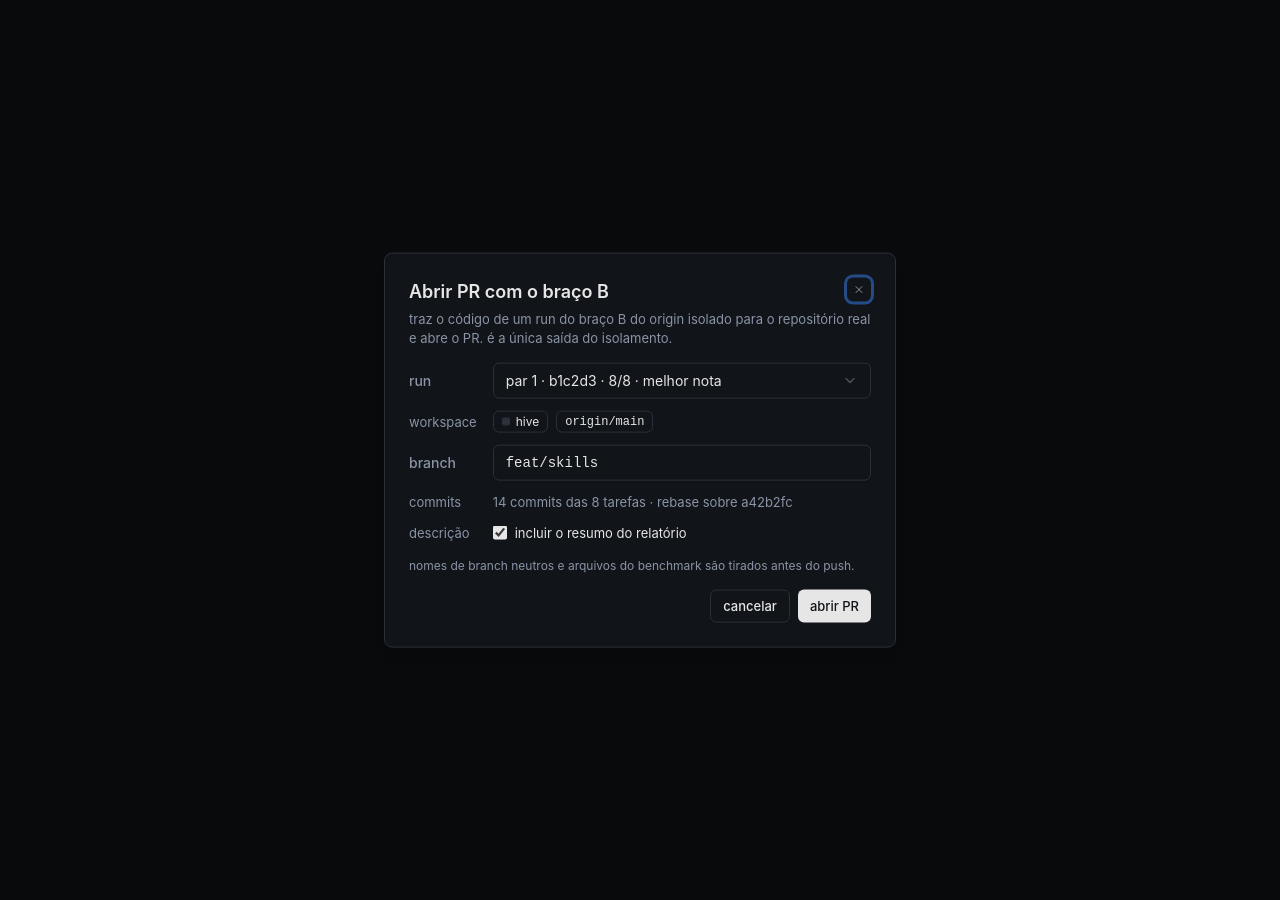
a rebase conflict lists its files inline and keeps the dialog open; a branch already on origin is said under the field (#477)
Expected: the text "14 commits das 8 tarefas · rebase sobre a42b2fc" is shown, x1=493 y1=494 x2=793 y2=510
Click the button "abrir PR". click: (834, 606)
box: x1=798 y1=590 x2=871 y2=622
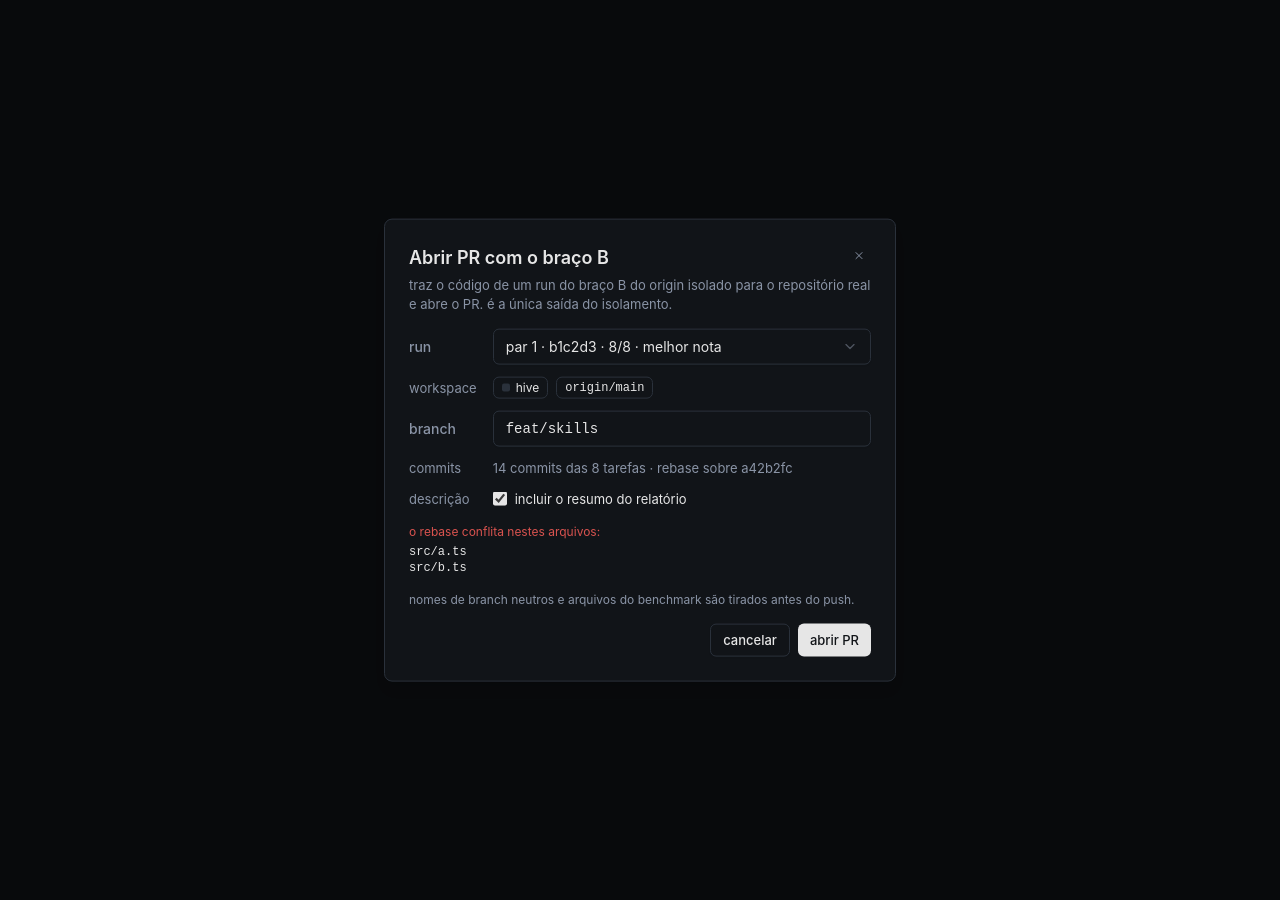
Expected: the text "o rebase conflita nestes arquivos:" is shown, x1=409 y1=524 x2=600 y2=539
Expected: the list item "src/a.ts" is shown, x1=409 y1=545 x2=467 y2=559
Expected: the list item "src/b.ts" is shown, x1=409 y1=561 x2=467 y2=575
Click the button "abrir PR". click: (834, 640)
box: x1=798 y1=624 x2=871 y2=656
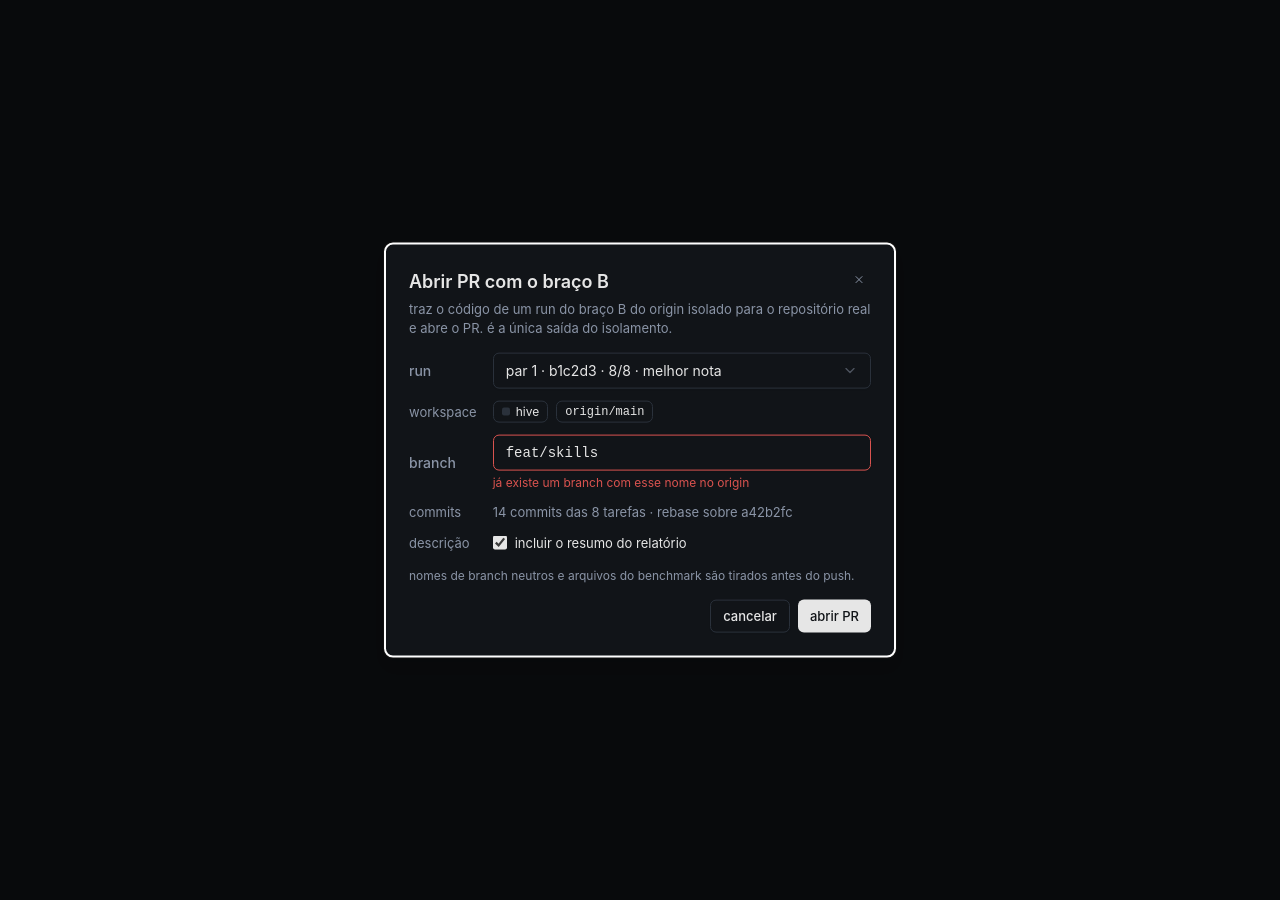
Expected: the text "já existe um branch com esse nome no origin" is shown, x1=493 y1=475 x2=749 y2=490
Expected: the list item "src/a.ts" is gone
